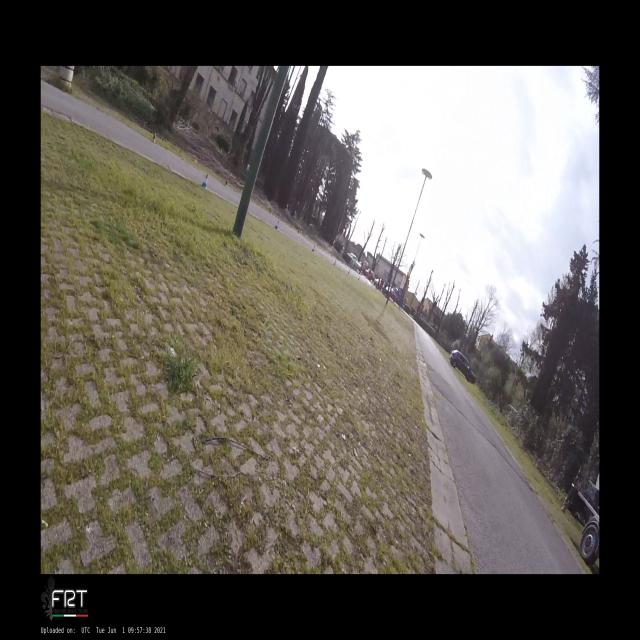blue_cone: (201, 174, 208, 189), (275, 220, 279, 230), (312, 245, 315, 253), (334, 260, 336, 265), (348, 270, 350, 274)
yellow_cone: (151, 132, 156, 144)
